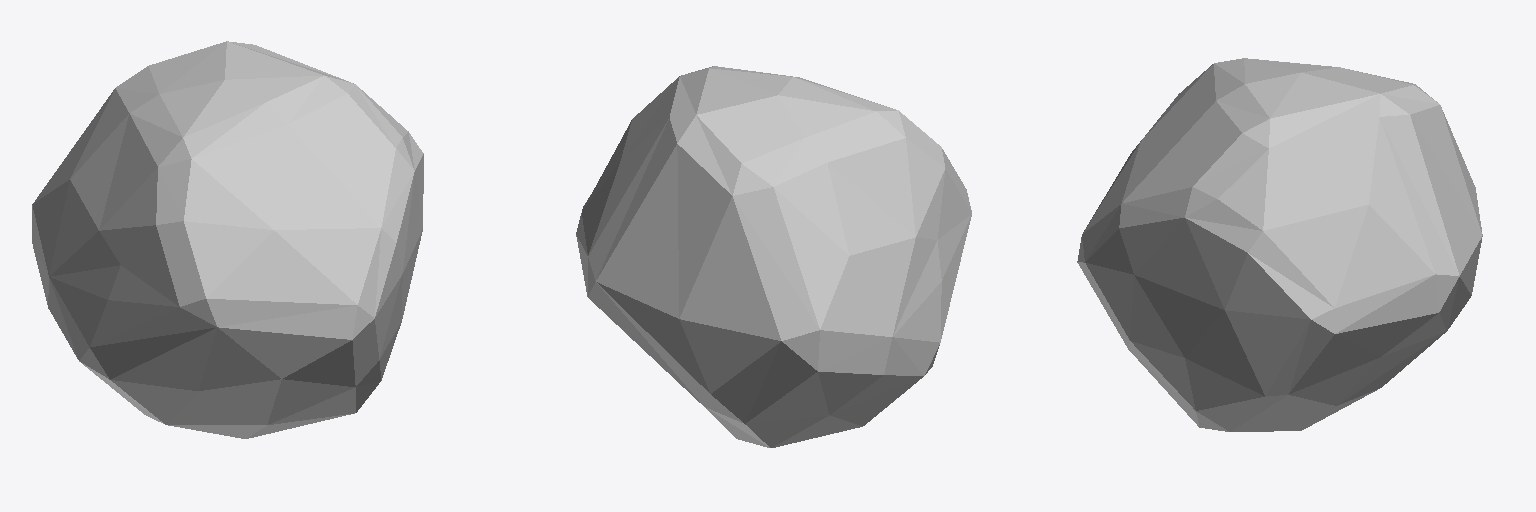
File: asteroid_l.obj
The picture shows the model from 3 angles: view 1: azimuth 30°, elevation 25°; view 2: azimuth 150°, elevation 25°; view 3: azimuth 270°, elevation 25°; orthographic projection.
Visible parts, largest first — view 1: Asteroid_L_1_Icosphere.001; view 2: Asteroid_L_1_Icosphere.001; view 3: Asteroid_L_1_Icosphere.001.
Boxes of the visible parts, <box> form: Asteroid_L_1_Icosphere.001: <box>32,41,423,438</box>; Asteroid_L_1_Icosphere.001: <box>576,66,971,447</box>; Asteroid_L_1_Icosphere.001: <box>1077,58,1482,431</box>.
Bounding box in the file's own units: 8.32 × 8.14 × 8.62.